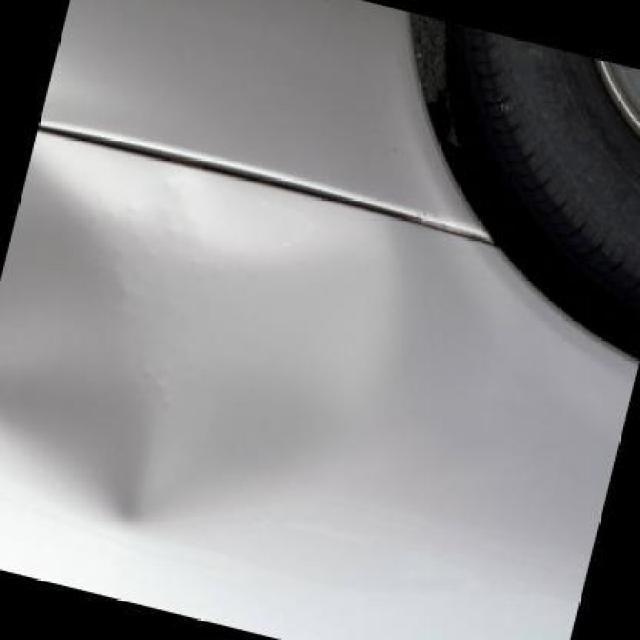dent: (8, 154, 355, 529)
